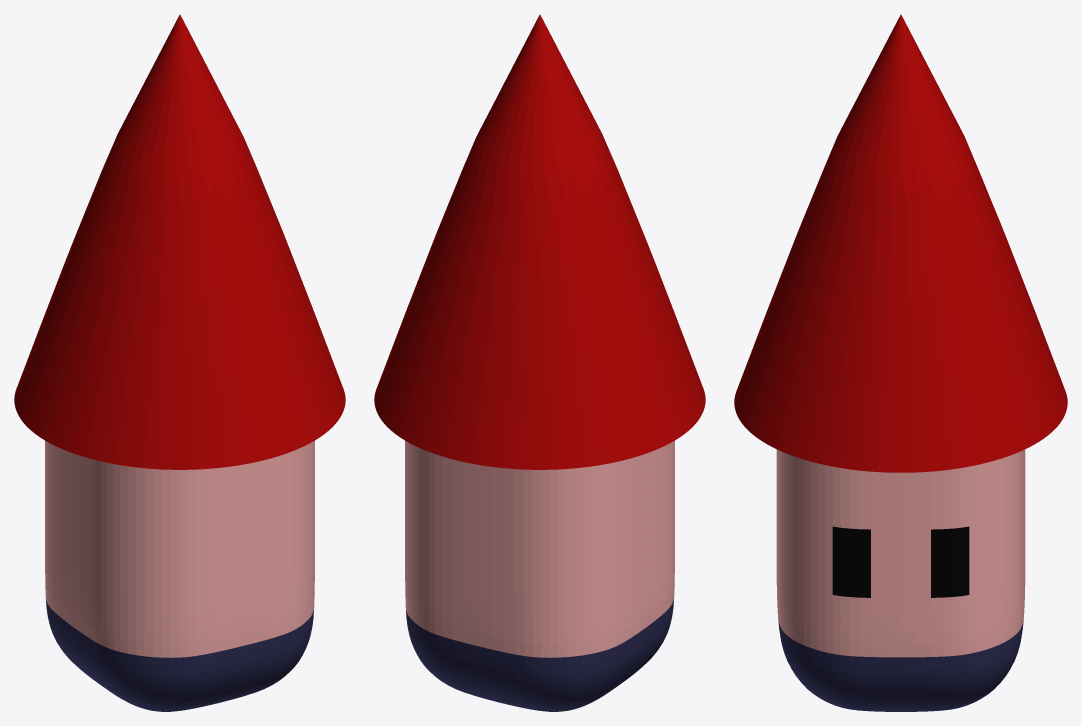
The model's file is gnome.fbx.
3 views of the same model, side by side, from view 1: azimuth 30°, elevation 25°; view 2: azimuth 150°, elevation 25°; view 3: azimuth 270°, elevation 25° (orthographic).
Visible parts, largest first — view 1: Gnome; view 2: Gnome; view 3: Gnome.
Part boxes in pixels (left/top/right/bottom): Gnome: left=14, top=14, right=345, bottom=711; Gnome: left=374, top=14, right=705, bottom=711; Gnome: left=734, top=14, right=1067, bottom=711.
Bounding box in the file's own units: 267 × 599 × 267.
